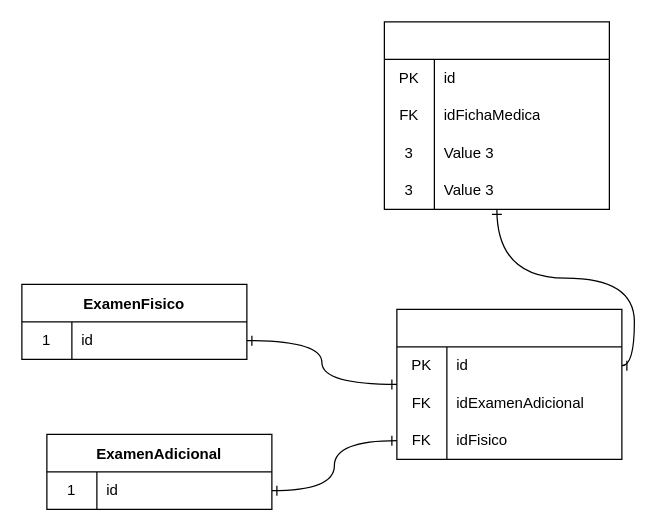
This 656x531 diagram has some shape labels left out. Here are the shapes that lost their labels. From the top down, the box of each, then its label:
(383, 21, 609, 209): ConsultaMedica
(396, 308, 622, 459): ExamenDetalles
